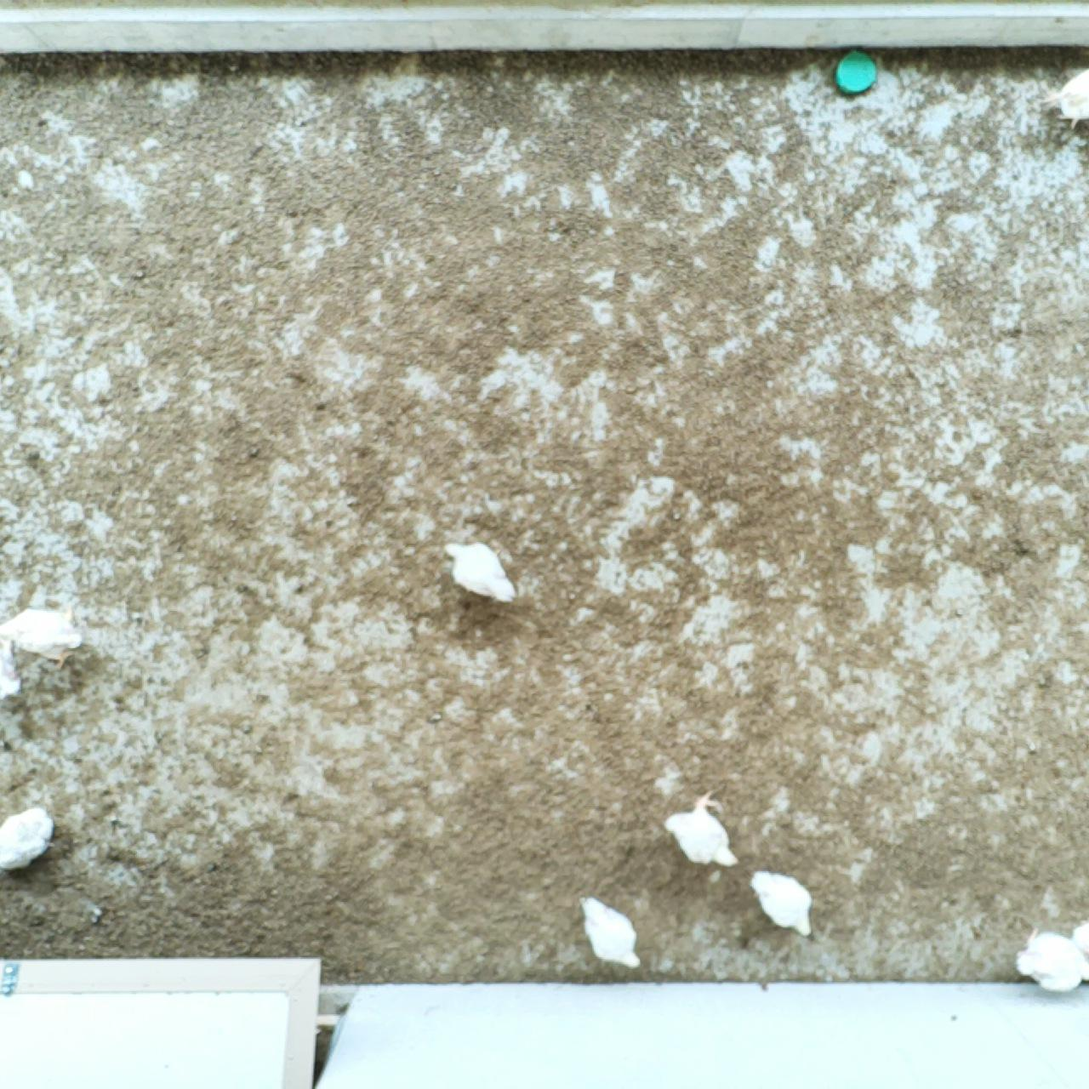chicken: (663, 789, 741, 870), (437, 536, 522, 610), (745, 864, 817, 938), (577, 892, 645, 969), (0, 795, 57, 882), (1014, 928, 1089, 994), (0, 602, 86, 659), (0, 636, 29, 699), (1067, 919, 1089, 981)
